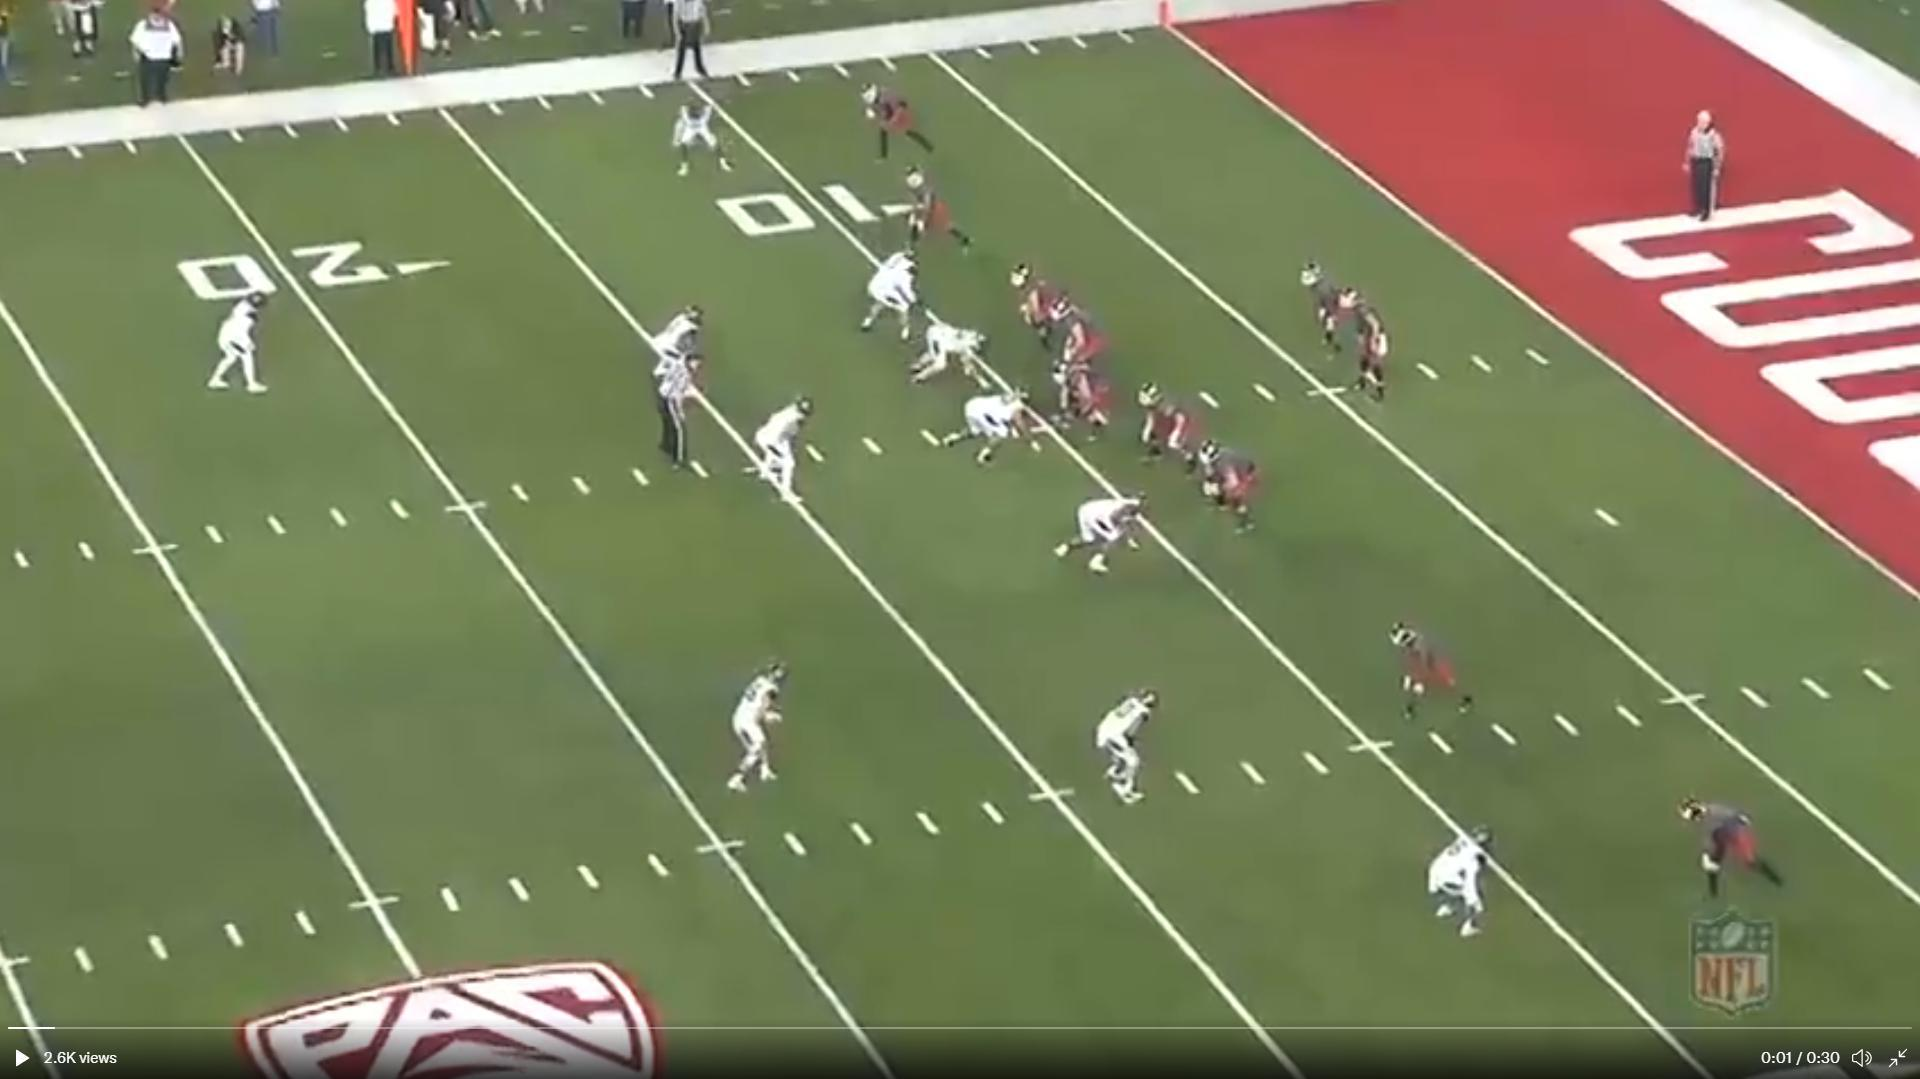defense: (715, 660, 790, 804), (1049, 491, 1150, 582), (1428, 826, 1503, 947), (933, 389, 1041, 470), (1091, 683, 1159, 809), (205, 285, 271, 402), (759, 397, 820, 512), (857, 248, 927, 345), (909, 321, 991, 395), (673, 98, 735, 182), (648, 304, 706, 378)
oline: (1128, 390, 1210, 483), (1052, 301, 1110, 420), (1198, 440, 1263, 540), (1010, 263, 1078, 354), (1058, 357, 1117, 441)
qb: (1350, 288, 1396, 407)
ref: (653, 353, 703, 473), (1682, 106, 1726, 232), (662, 0, 712, 84)
skill: (1681, 792, 1782, 906), (1390, 618, 1480, 726), (900, 168, 980, 263), (858, 76, 936, 169), (1303, 263, 1350, 369)
